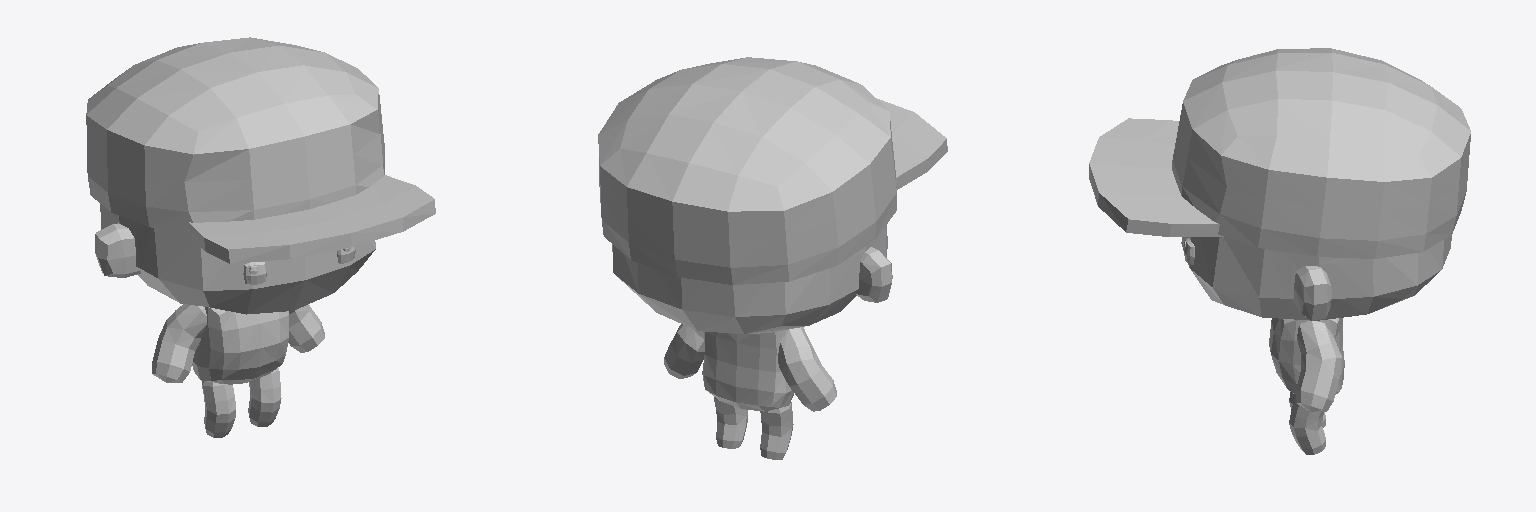
Rendered from idle_0012.obj.
The picture shows the model from 3 angles: view 1: azimuth 30°, elevation 25°; view 2: azimuth 150°, elevation 25°; view 3: azimuth 270°, elevation 25°; orthographic projection.
Parts seen in each view (by area): view 1: Object_41, Object_42, Object_36, Object_44, Object_38; view 2: Object_41, Object_44, Object_36, Object_42; view 3: Object_41, Object_36, Object_42, Object_44.
Part boxes in pixels (bbox=[...]): Object_41: bbox=[86, 37, 384, 233]; Object_42: bbox=[184, 110, 435, 263]; Object_36: bbox=[95, 204, 375, 314]; Object_44: bbox=[152, 304, 324, 437]; Object_38: bbox=[243, 246, 355, 284]; Object_41: bbox=[598, 57, 896, 284]; Object_44: bbox=[664, 324, 836, 459]; Object_36: bbox=[612, 225, 892, 333]; Object_42: bbox=[876, 98, 947, 189]; Object_41: bbox=[1183, 48, 1470, 258]; Object_36: bbox=[1181, 235, 1451, 320]; Object_42: bbox=[1089, 103, 1226, 236]; Object_44: bbox=[1269, 318, 1344, 454].
Size of the model in its own units: 0.9691 by 1.22 by 1.14.